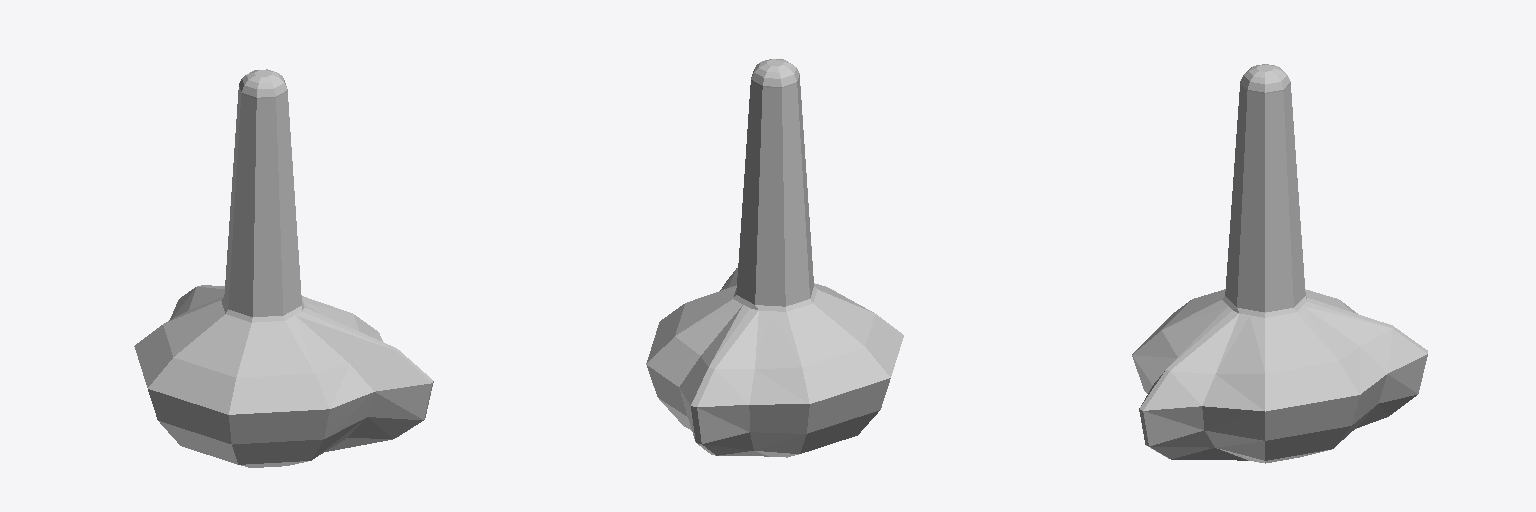
Rendered from stump.obj.
3 views of the same model, side by side, from view 1: azimuth 30°, elevation 25°; view 2: azimuth 150°, elevation 25°; view 3: azimuth 270°, elevation 25° (orthographic).
Parts seen in each view (by area): view 1: Cylinder1; view 2: Cylinder1; view 3: Cylinder1.
Part boxes in pixels (left/top/right/bottom): Cylinder1: left=134, top=69, right=433, bottom=467; Cylinder1: left=646, top=59, right=903, bottom=457; Cylinder1: left=1132, top=64, right=1427, bottom=463.
Size of the model in its own units: 1.9 by 2.94 by 2.1.